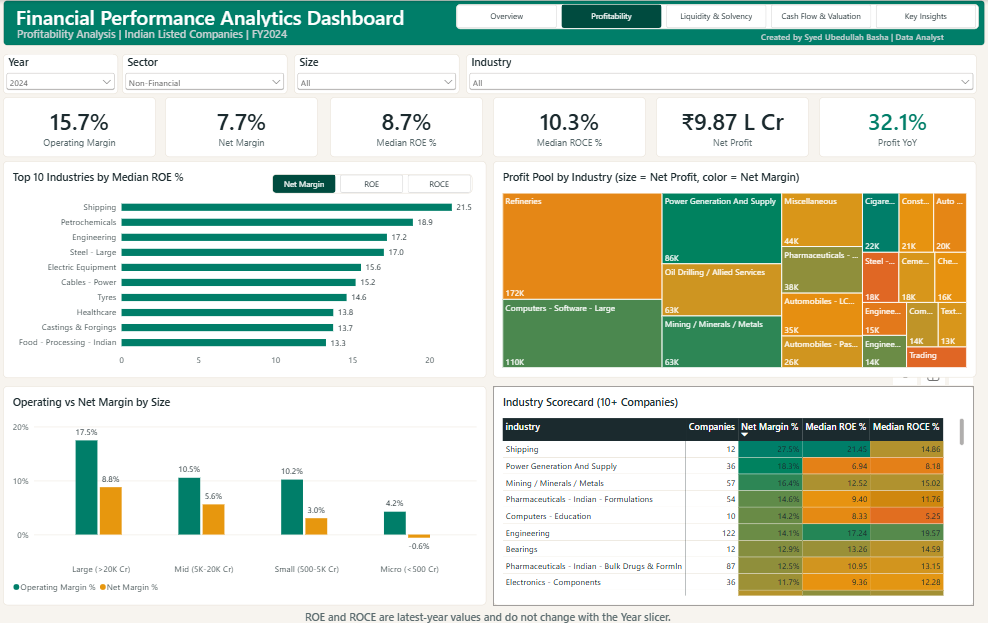

The dashboard page shown, as its layout file describes it:
{"tool":"powerbi","page":{"name":"Profitability","canvas":[1750,1100],"ordinal":1},"visuals":[{"type":"slicer","fields":{"Values":["dim_company.Sector Type"]},"box":[233.9,93.7,289.2,70],"z":0},{"type":"slicer","title":"Year","fields":{"Values":["dim_year.fiscal_year"]},"box":[25.8,93.7,200.8,70],"z":1000},{"type":"shape","box":[26.2,0,1714.6,80.3],"z":2000},{"type":"textbox","title":"Financial Performance Analytics Dashboard","box":[49.6,7,707,40],"z":3000},{"type":"slicer","title":"Year","fields":{"Values":["dim_company.size_bucket"]},"box":[535,93.7,289.2,70],"z":4000},{"type":"slicer","title":"Year","fields":{"Values":["dim_company.industry"]},"box":[834.5,93.9,891.6,70],"z":5000},{"type":"textbox","title":"Profitability Analysis | Indian Listed Companies | FY2024","box":[50.4,47,532,24],"z":6000},{"type":"card","fields":{"Values":["_Measures.Operating Margin %"]},"box":[25.8,169.5,267.1,105],"z":7000},{"type":"card","fields":{"Values":["_Measures.Net Margin %"]},"box":[309.5,169.5,267.1,105],"z":8000},{"type":"card","fields":{"Values":["_Measures.Median ROE %"]},"box":[596.8,169.5,267.1,105],"z":9000},{"type":"card","fields":{"Values":["_Measures.Median ROCE %"]},"box":[882.4,169.5,267.1,105],"z":10000},{"type":"card","fields":{"Values":["_Measures.Net Profit (L Cr)"]},"box":[1166.1,169.5,267.1,105],"z":11000},{"type":"card","fields":{"Values":["_Measures.Profit YoY %"]},"box":[1451.6,169.5,274.5,105],"z":12000},{"type":"clusteredBarChart","title":"Top 10 Industries by Median ROE %","fields":{"Category":["dim_company.industry"],"Y":["_Measures.Median ROE % (10+ Cos)"]},"box":[25.8,281.8,843.7,379.5],"z":14000},{"type":"bookmarkNavigator","box":[495,304,350,34],"z":16000},{"type":"clusteredColumnChart","title":"Operating vs Net Margin by Size","fields":{"Category":["dim_company.size_bucket"],"Y":["_Measures.Operating Margin %","_Measures.Net Margin %"]},"box":[25.8,674.2,843.7,383.2],"z":17000},{"type":"pivotTable","title":"Industry Scorecard (10+ Companies)","fields":{"Rows":["dim_company.industry"],"Values":["_Measures.Companies","_Measures.Net Margin %","_Measures.Median ROE %","_Measures.Median ROCE %"]},"box":[882.4,674.2,840,383.2],"z":18000},{"type":"textbox","title":"ROE and ROCE are latest-year values and do not change with the Year slicer.","box":[25.8,1064.7,1692.9,29.5],"z":19000},{"type":"treemap","title":"Profit Pool by Industry (size = Net Profit, color = Net Margin)","fields":{"Group":["dim_company.industry"],"Values":["_Measures.Total Net Profit"]},"box":[882.4,281.8,843.7,377.6],"z":20000},{"type":"pageNavigator","box":[817.1,7,913.2,43.7],"z":21000},{"type":"textbox","title":"Created by Syed Ubedullah Basha | Data Analyst","box":[1350.3,53.4,350,24],"z":22000}]}

Visuals, with their boxes in screenshot pixels (x1, y1, x2, y2), scaled from the page's 1750x1100 canvas onto the 989x632 screenshot:
slicer - dim_company.Sector Type: crop(132, 54, 296, 94)
"Year" slicer: crop(15, 54, 128, 94)
shape: crop(15, 0, 984, 46)
"Financial Performance Analytics Dashboard" textbox: crop(28, 4, 428, 27)
"Year" slicer: crop(302, 54, 466, 94)
"Year" slicer: crop(472, 54, 975, 94)
"Profitability Analysis | Indian Listed Companies | FY2024" textbox: crop(28, 27, 329, 41)
card - _Measures.Operating Margin %: crop(15, 97, 166, 158)
card - _Measures.Net Margin %: crop(175, 97, 326, 158)
card - _Measures.Median ROE %: crop(337, 97, 488, 158)
card - _Measures.Median ROCE %: crop(499, 97, 650, 158)
card - _Measures.Net Profit (L Cr): crop(659, 97, 810, 158)
card - _Measures.Profit YoY %: crop(820, 97, 975, 158)
"Top 10 Industries by Median ROE %" clusteredBarChart: crop(15, 162, 491, 380)
bookmarkNavigator: crop(280, 175, 478, 194)
"Operating vs Net Margin by Size" clusteredColumnChart: crop(15, 387, 491, 608)
"Industry Scorecard (10+ Companies)" pivotTable: crop(499, 387, 973, 608)
"ROE and ROCE are latest-year values and do not change with the Year slicer." textbox: crop(15, 612, 971, 629)
"Profit Pool by Industry (size = Net Profit, color = Net Margin)" treemap: crop(499, 162, 975, 379)
pageNavigator: crop(462, 4, 978, 29)
"Created by Syed Ubedullah Basha | Data Analyst" textbox: crop(763, 31, 961, 44)
